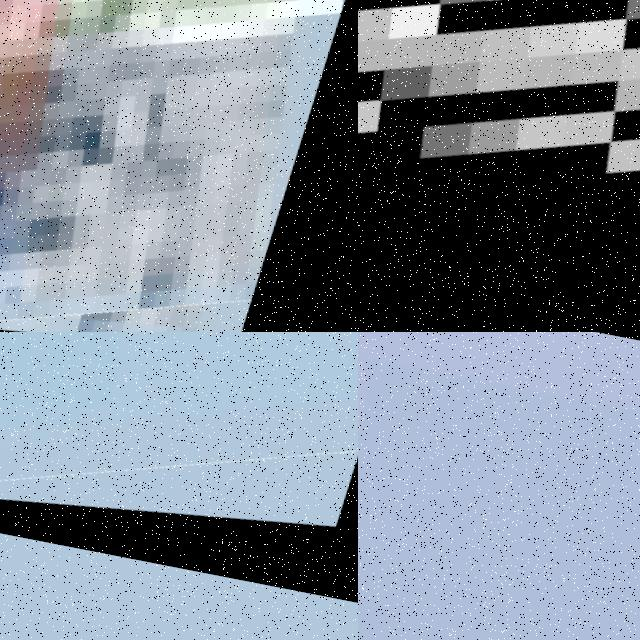0: (0, 0, 358, 332), (0, 332, 358, 605)
drone: (358, 0, 640, 332)
